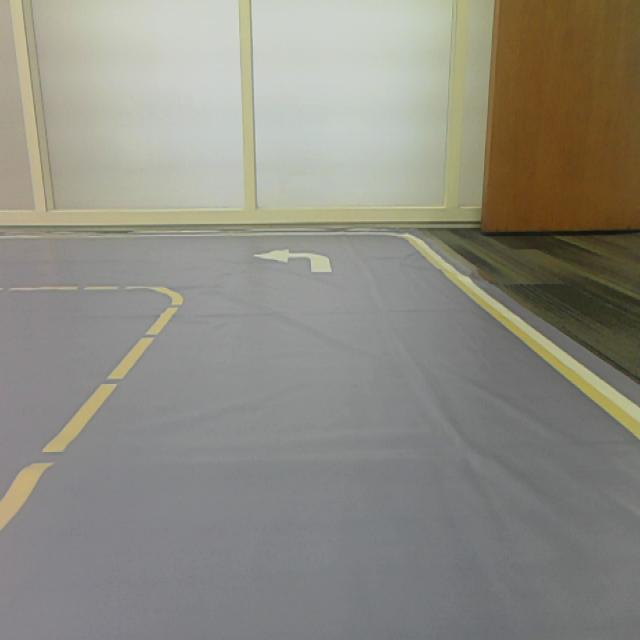left_lane: (0, 302, 183, 535)
right_lane: (418, 249, 640, 441)
